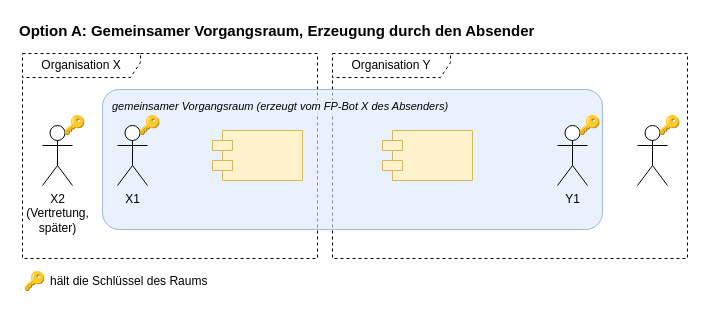
This 705x310 diagram has some shape labels left out. The centre of each missing label's shape, as x and y in pixels:
"FP-Bot X" goes at (x=257, y=155).
"FP-Bot Y" goes at (x=427, y=155).
"Y2 (Vertretung, später)" goes at (x=652, y=155).
